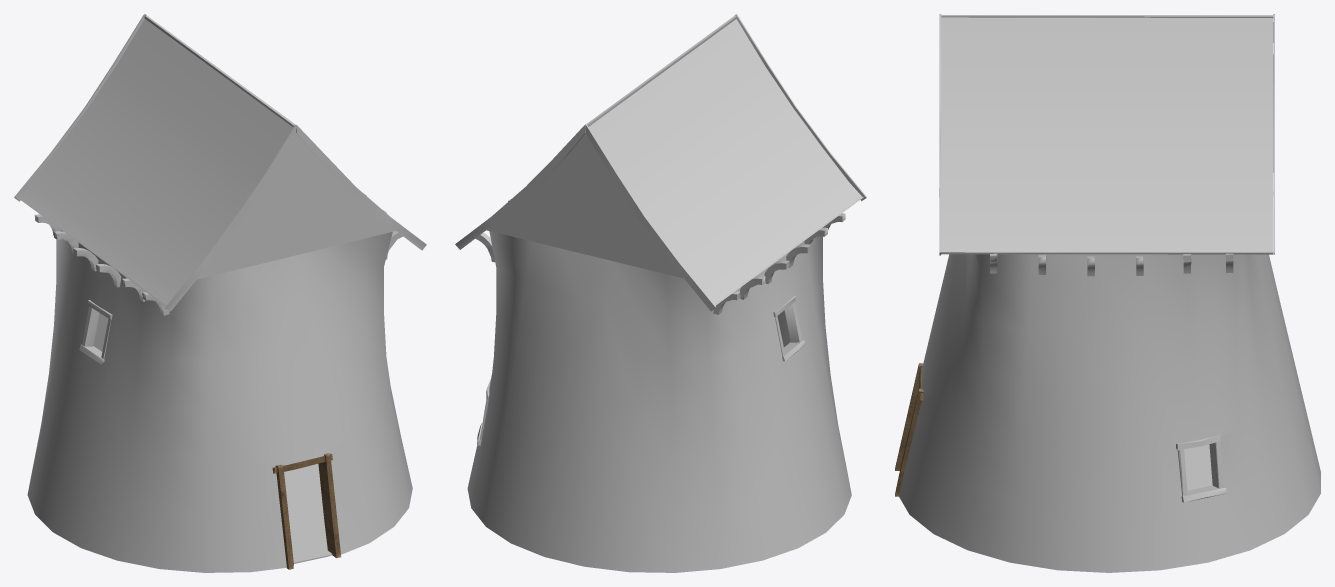
The model's file is SM_WindmillBase_COLL.FBX.
3 views of the same model, side by side, from view 1: azimuth 30°, elevation 25°; view 2: azimuth 150°, elevation 25°; view 3: azimuth 270°, elevation 25° (orthographic). The views are drawn at different scales.
Parts seen in each view (by area): view 1: SM_WindmillBase_COLL; view 2: SM_WindmillBase_COLL; view 3: SM_WindmillBase_COLL.
Boxes of the visible parts, x1,y1,x2,y2 form: SM_WindmillBase_COLL: (14,14,426,572); SM_WindmillBase_COLL: (455,14,866,572); SM_WindmillBase_COLL: (895,14,1320,572).
Size of the model in its own units: 9.28 by 11.29 by 9.26.
